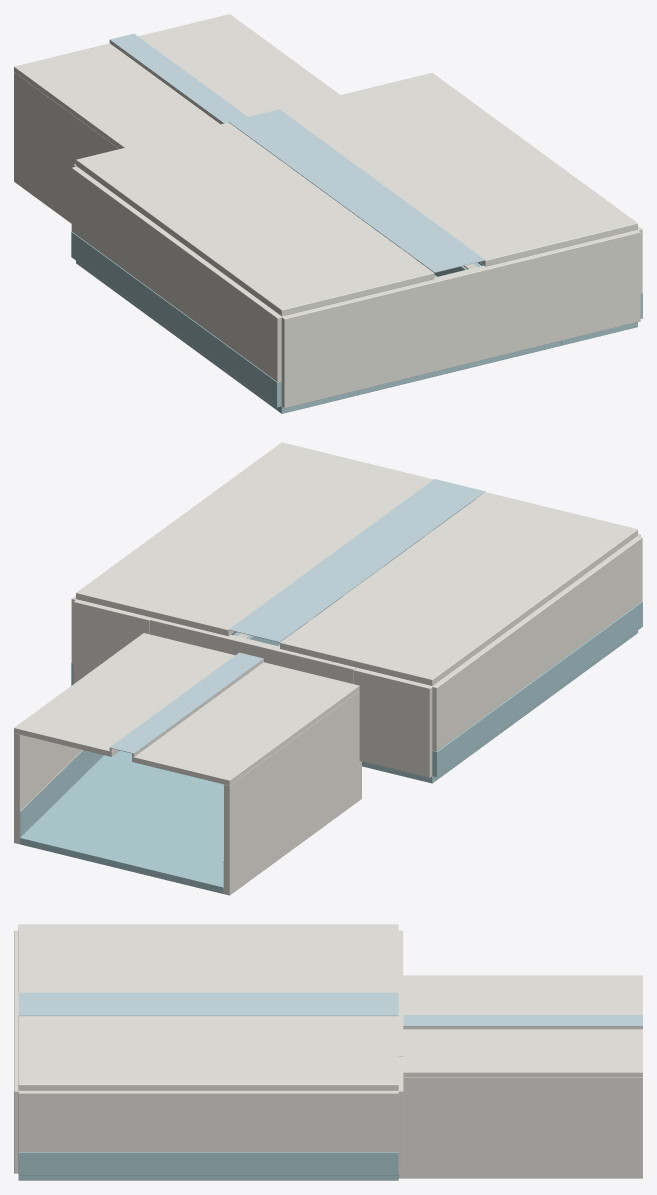
The model's file is formal_sidepool.glb.
The picture shows the model from 3 angles, top to bottom: view 1: azimuth 30°, elevation 25°; view 2: azimuth 150°, elevation 25°; view 3: azimuth 270°, elevation 25°; orthographic projection. The views are drawn at different scales.
Visible parts, largest first — view 1: Side_SouthWall, Side_Ceiling-4, Side_Ceiling4, Side_Wall-7, Side_NorthVestibule_EnclosureRoof-1, Side_SkylightGlass, Side_NorthVestibule_EnclosureRoof1, Side_NorthVestibule_EnclosureWall-1, Side_Wainscot-7, Side_NorthVestibule_EnclosureRooflightGlass, Side_DeckEnd5.5, Side_DeckSide-5.5; view 2: Side_Ceiling-4, Side_Ceiling4, Side_NorthVestibule, Side_NorthVestibule_EnclosureWall-1, Side_Wall-7, Side_NorthVestibule_EnclosureRoof-1, Side_NorthVestibule_EnclosureRoof1, Side_SkylightGlass, Side_NorthPortalJamb-5.5, Side_Wainscot-7, Side_NorthPortalJamb5.5, Side_NorthPortalHeader (+4 smaller); view 3: Side_Ceiling4, Side_Ceiling-4, Side_NorthVestibule_EnclosureWall1, Side_Wall7, Side_NorthVestibule_EnclosureRoof1, Side_NorthVestibule_EnclosureRoof-1, Side_Wainscot7, Side_SkylightGlass, Side_NorthVestibule_EnclosureRooflightGlass, Side_DeckSide5.5, Side_SouthWall, Side_NorthVestibule_EnclosureRooflightCurb1 (+2 smaller).
Boxes of the visible parts, x1,y1,x2,y2 form: Side_SouthWall: (281,230,640,408); Side_Ceiling-4: (76,122,434,316); Side_Ceiling4: (280,73,637,266); Side_Wall-7: (71,166,284,381); Side_NorthVestibule_EnclosureRoof-1: (14,43,220,148); Side_SkylightGlass: (229,109,485,272); Side_NorthVestibule_EnclosureRoof1: (138,14,340,116); Side_NorthVestibule_EnclosureWall-1: (14,72,118,223); Side_Wainscot-7: (71,231,281,407); Side_NorthVestibule_EnclosureRooflightGlass: (109,33,247,124); Side_DeckEnd5.5: (358,341,561,395); Side_DeckSide-5.5: (76,261,357,413); Side_Ceiling-4: (280,492,637,685); Side_Ceiling4: (76,442,433,636); Side_NorthVestibule: (20,750,223,893); Side_NorthVestibule_EnclosureWall-1: (224,691,361,895); Side_Wall-7: (429,536,642,751); Side_NorthVestibule_EnclosureRoof-1: (132,662,359,785); Side_NorthVestibule_EnclosureRoof1: (14,633,234,756); Side_SkylightGlass: (229,479,485,642); Side_NorthPortalJamb-5.5: (353,667,432,777); Side_Wainscot-7: (432,601,642,776); Side_NorthPortalJamb5.5: (73,599,152,683); Side_NorthPortalHeader: (150,618,356,683); Side_Ceiling4: (18,1016,398,1090); Side_Ceiling-4: (18,924,398,992); Side_NorthVestibule_EnclosureWall1: (398,1077,642,1178); Side_Wall7: (18,1090,398,1151); Side_NorthVestibule_EnclosureRoof1: (403,1029,642,1077); Side_NorthVestibule_EnclosureRoof-1: (403,975,642,1014); Side_Wainscot7: (18,1152,398,1175); Side_SkylightGlass: (18,992,398,1015); Side_NorthVestibule_EnclosureRooflightGlass: (403,1015,642,1026); Side_DeckSide5.5: (18,1176,398,1180); Side_SouthWall: (14,930,19,1173); Side_NorthVestibule_EnclosureRooflightCurb1: (403,1026,642,1029).
Size of what is drawn, in the model's own units: 14.38 by 5.13 by 23.18.
